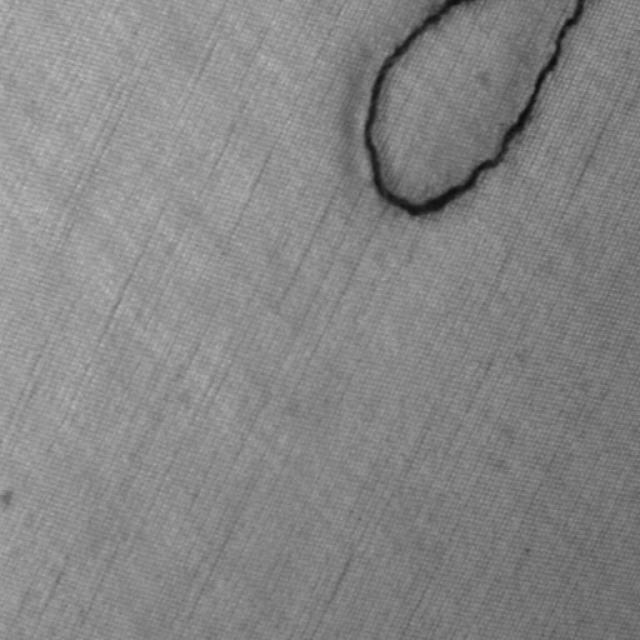Thread: (363, 0, 588, 220)
